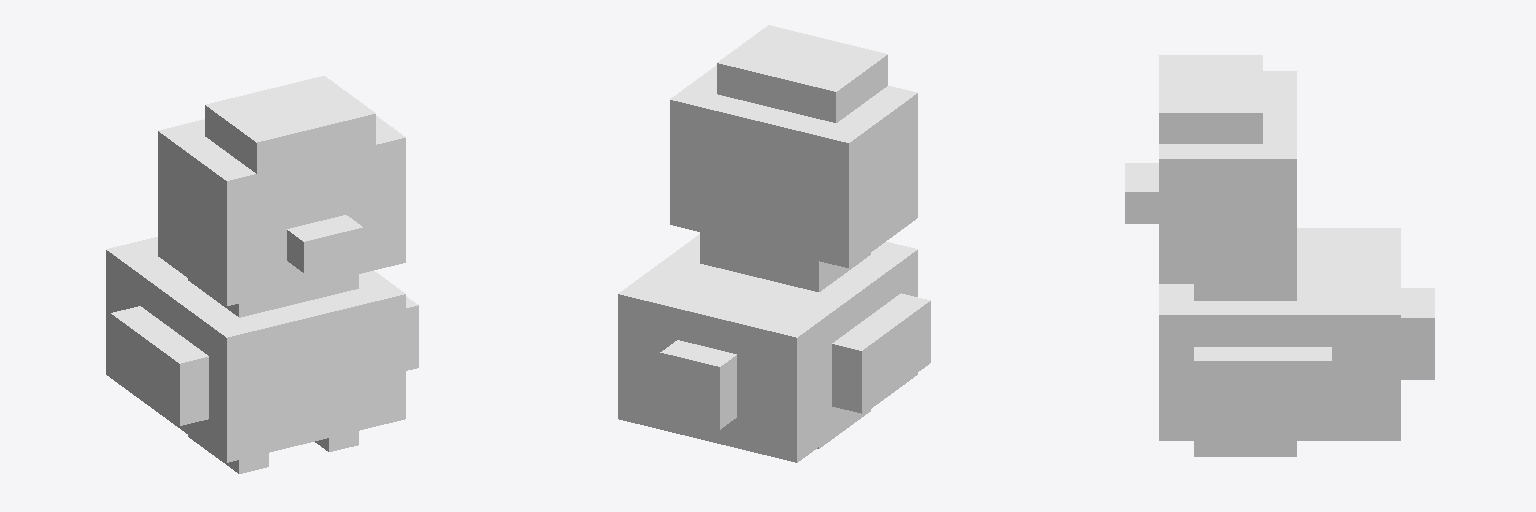
The model's file is hiyoko_kansei.obj.
3 renders of one model, left to right at view 1: azimuth 30°, elevation 25°; view 2: azimuth 150°, elevation 25°; view 3: azimuth 270°, elevation 25°, orthographic.
Visible parts, largest first — view 1: hiyoko_kansei; view 2: hiyoko_kansei; view 3: hiyoko_kansei.
Part boxes in pixels (x1,y1,x2,y2): hiyoko_kansei: (106,76,418,473); hiyoko_kansei: (618,25,930,462); hiyoko_kansei: (1125,55,1434,456).
Size of the model in its own units: 8 by 11 by 9.